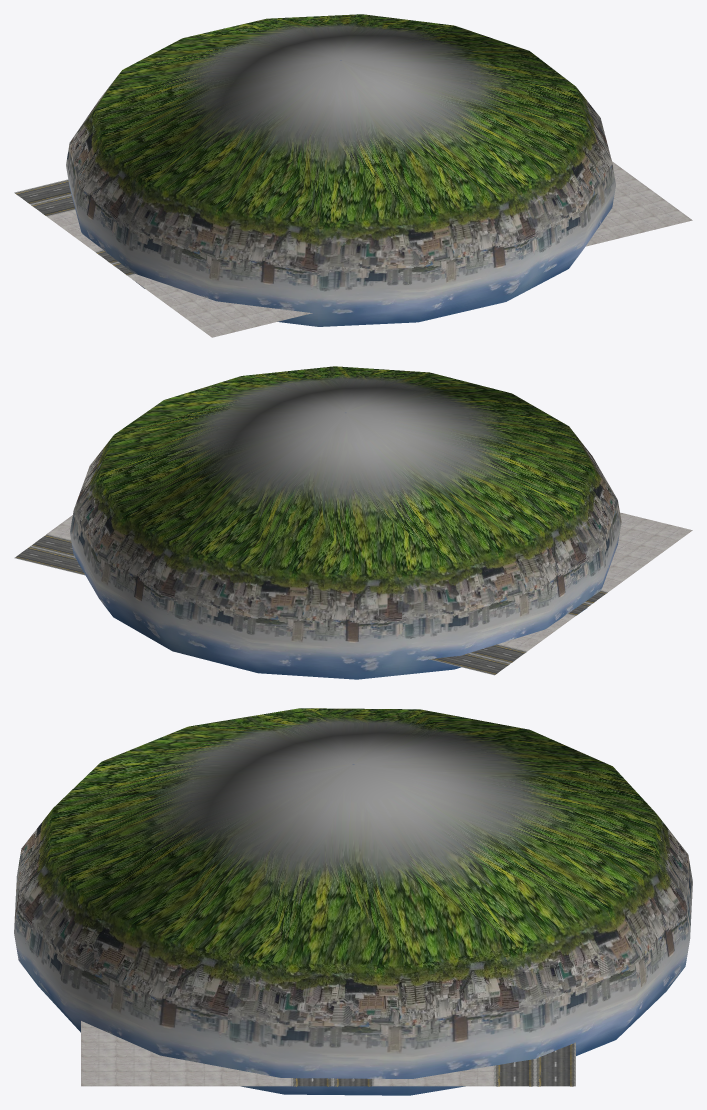
Rendered from Airport.glb.
3 renders of one model, top to bottom at view 1: azimuth 30°, elevation 25°; view 2: azimuth 150°, elevation 25°; view 3: azimuth 270°, elevation 25°, orthographic. The views are drawn at different scales.
Visible parts, largest first — view 1: Airport; view 2: Airport; view 3: Airport.
Part boxes in pixels (x1,y1,x2,y2): Airport: (14, 14, 692, 337); Airport: (14, 366, 692, 679); Airport: (14, 708, 692, 1095).
Bounding box in the file's own units: 1039 × 328 × 1018.
16 materials, 15 textured.
